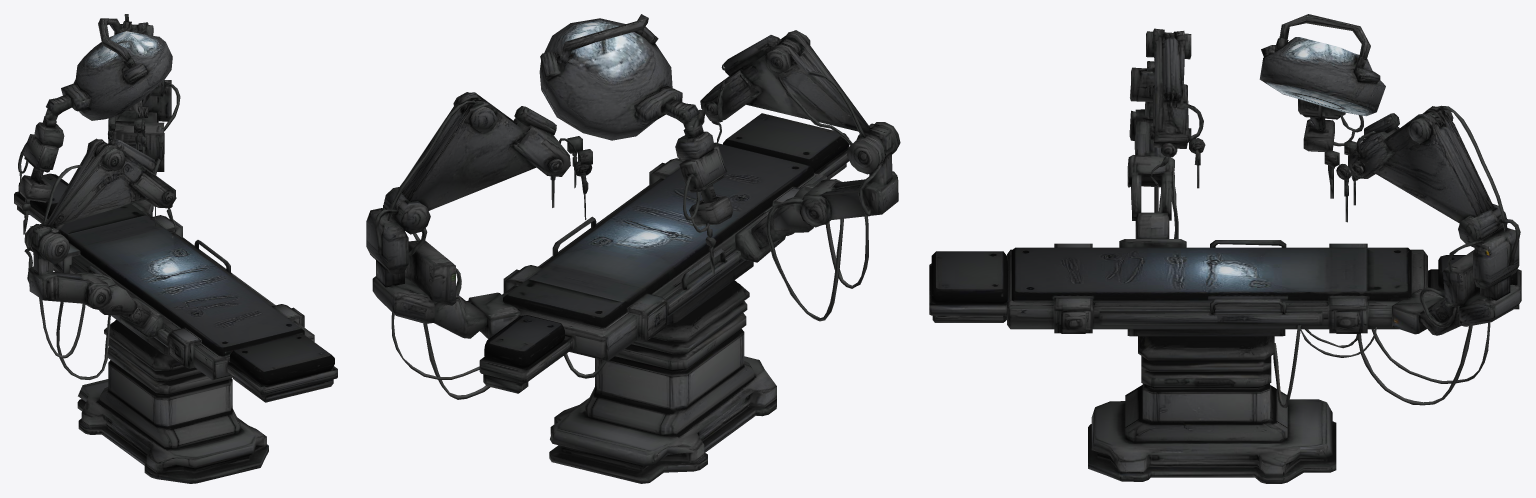
The picture shows the model from 3 angles, left to right: view 1: azimuth 30°, elevation 25°; view 2: azimuth 150°, elevation 25°; view 3: azimuth 270°, elevation 25°; orthographic projection. The views are drawn at different scales.
Parts seen in each view (by area): view 1: tripo_node_7ec2c2c2-464d-4b03-941b-8d1f4367007b; view 2: tripo_node_7ec2c2c2-464d-4b03-941b-8d1f4367007b; view 3: tripo_node_7ec2c2c2-464d-4b03-941b-8d1f4367007b.
Part boxes in pixels (x1,y1,x2,y2): tripo_node_7ec2c2c2-464d-4b03-941b-8d1f4367007b: (14, 14, 337, 483); tripo_node_7ec2c2c2-464d-4b03-941b-8d1f4367007b: (366, 14, 900, 483); tripo_node_7ec2c2c2-464d-4b03-941b-8d1f4367007b: (929, 14, 1521, 483).
Bounding box in the file's own units: 0.6309 × 0.7832 × 0.998.
Materials: 1 (1 with a texture image).
